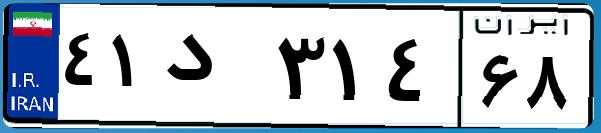1: (330, 28, 385, 110), (110, 28, 158, 98)
3: (270, 28, 330, 110)
4: (385, 28, 445, 110), (57, 26, 110, 100)
6: (475, 38, 525, 113)
8: (525, 38, 570, 115)
د: (158, 20, 270, 120)
